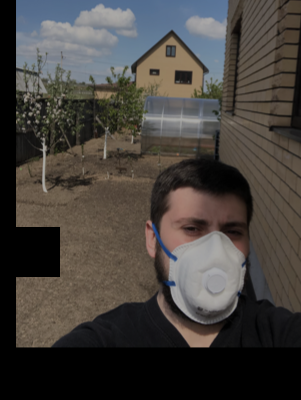with_mask: (160, 199, 249, 330)
